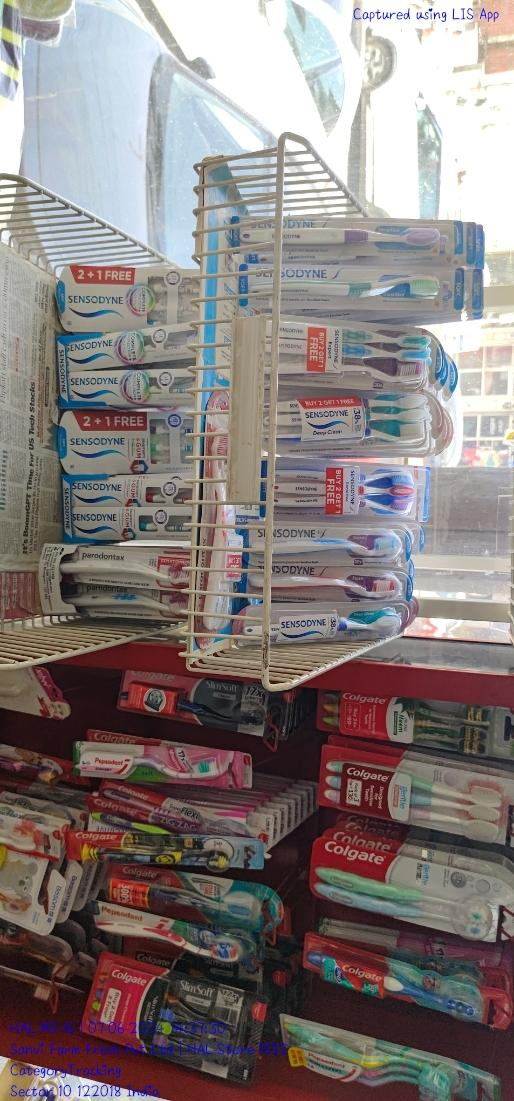11: (483, 76, 512, 493)
13: (348, 560, 365, 945)
16: (192, 689, 221, 980)
4: (125, 672, 154, 981)
5: (183, 150, 213, 540)
6: (150, 147, 182, 536)
soap: (317, 528, 334, 846)
